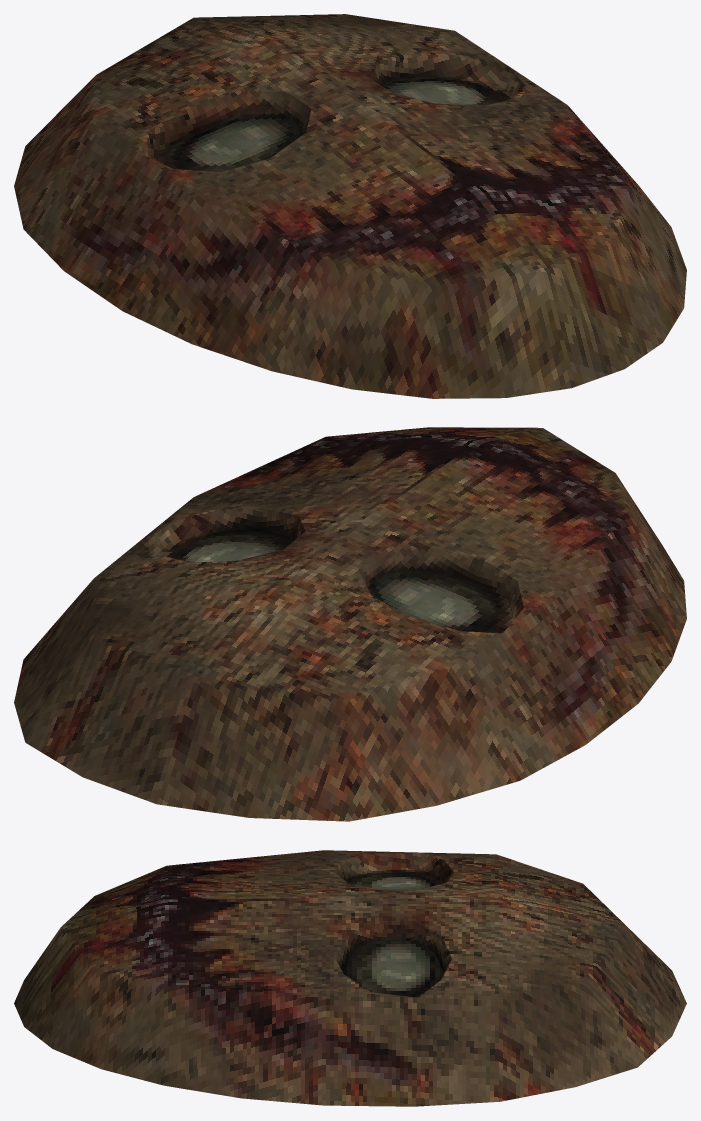
File: mask_mx_2_1.glb
3 views of the same model, one above another, from view 1: azimuth 30°, elevation 25°; view 2: azimuth 150°, elevation 25°; view 3: azimuth 270°, elevation 25° (orthographic). The views are drawn at different scales.
Visible parts, largest first — view 1: mask_mx_2_1; view 2: mask_mx_2_1; view 3: mask_mx_2_1.
Boxes of the visible parts, <box> form: mask_mx_2_1: <box>14,14,686,398</box>; mask_mx_2_1: <box>14,427,686,821</box>; mask_mx_2_1: <box>14,850,686,1106</box>.
Size of the model in its own units: 0.2322 by 0.0554 by 0.3198.
Materials: 1 (1 with a texture image).
